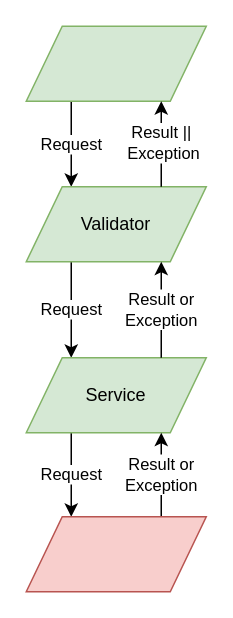
Some shapes in this 233 by 618 pixel diagram are drawn without their labels. The centre of each missing label's shape, as x and y in pixels:
API-controller: pixel 115 63
Repository: pixel 115 553
